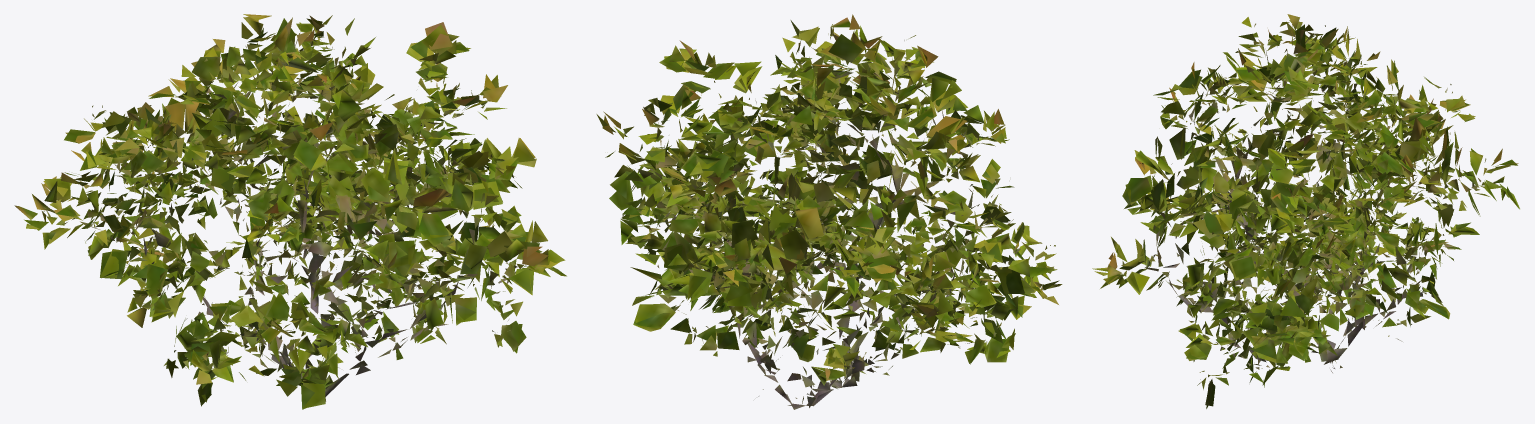
File: sea-grape.glb
3 views of the same model, side by side, from view 1: azimuth 30°, elevation 25°; view 2: azimuth 150°, elevation 25°; view 3: azimuth 270°, elevation 25° (orthographic). The views are drawn at different scales.
Visible parts, largest first — view 1: Mesh_0; view 2: Mesh_0; view 3: Mesh_0.
Part boxes in pixels (bbox=[...]): Mesh_0: bbox=[14, 14, 566, 409]; Mesh_0: bbox=[596, 14, 1062, 409]; Mesh_0: bbox=[1092, 14, 1519, 408].
Bounding box in the file's own units: 1.87 × 1.53 × 1.76.
Materials: 1 (1 with a texture image).
